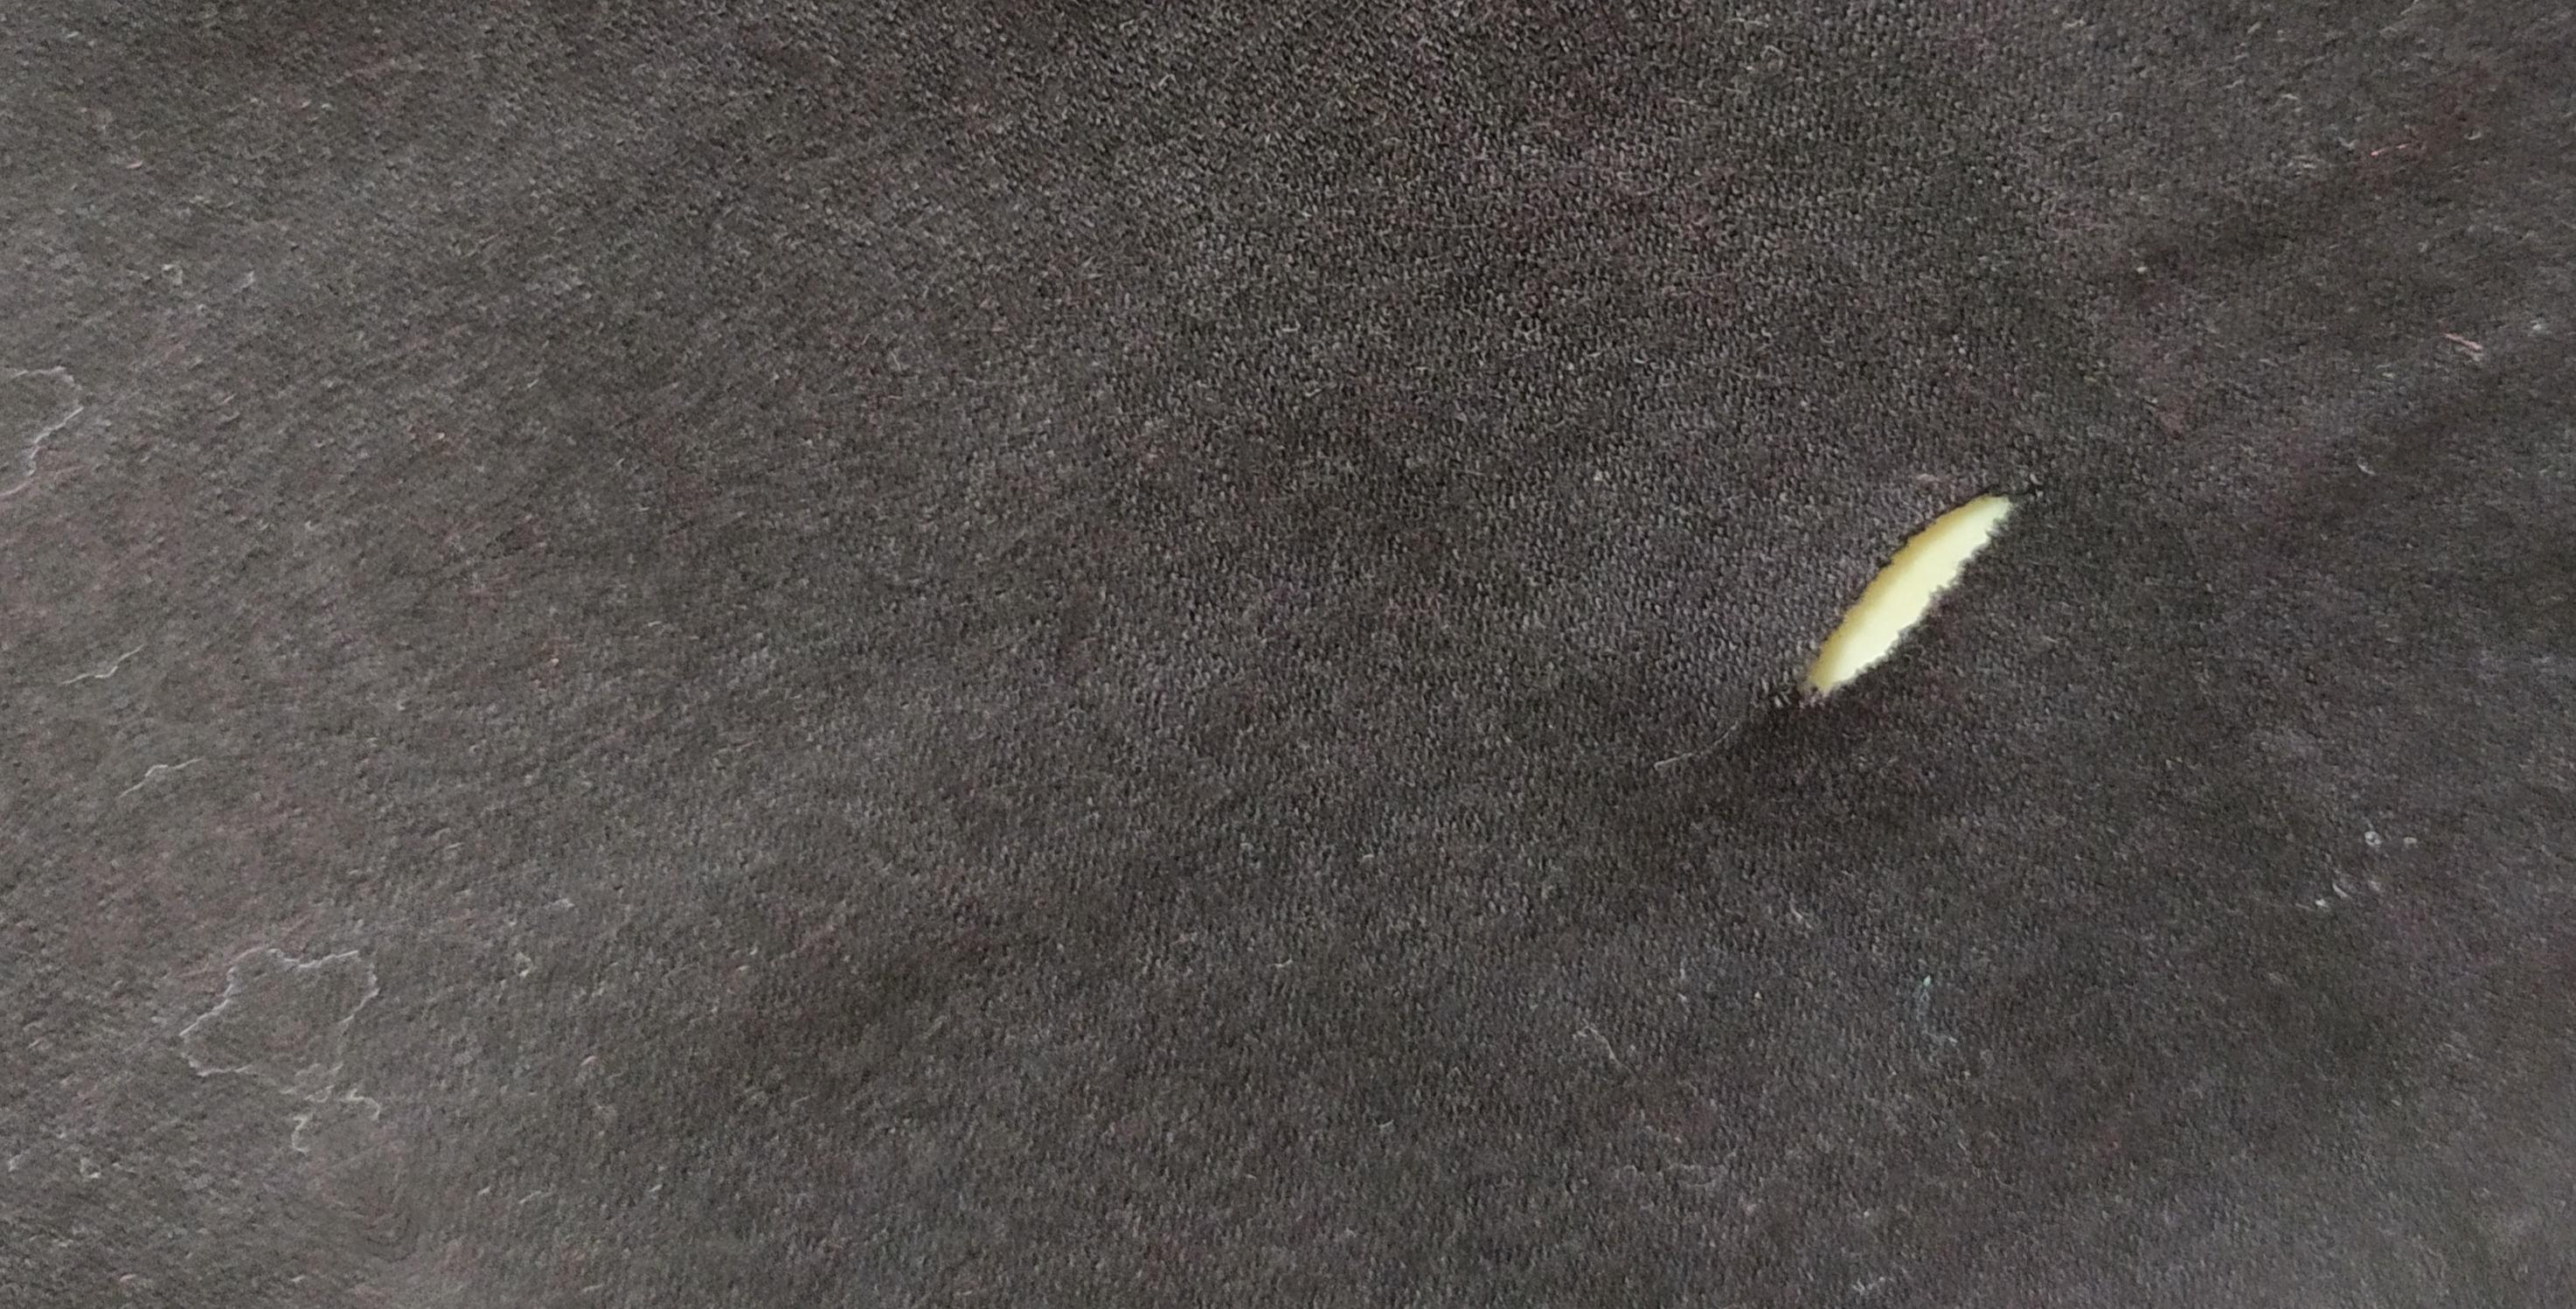hole: (1768, 454, 2049, 718)
